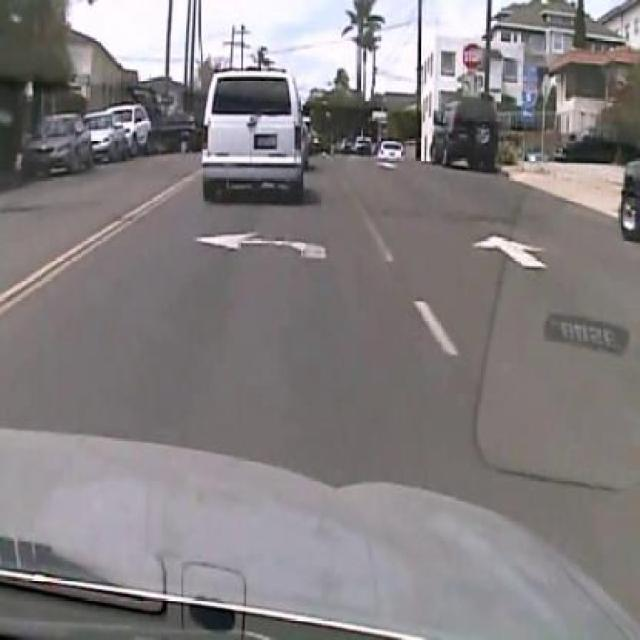stop: (461, 39, 485, 72)
